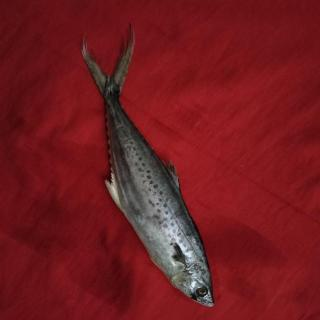Ikan: (73, 26, 222, 312)
